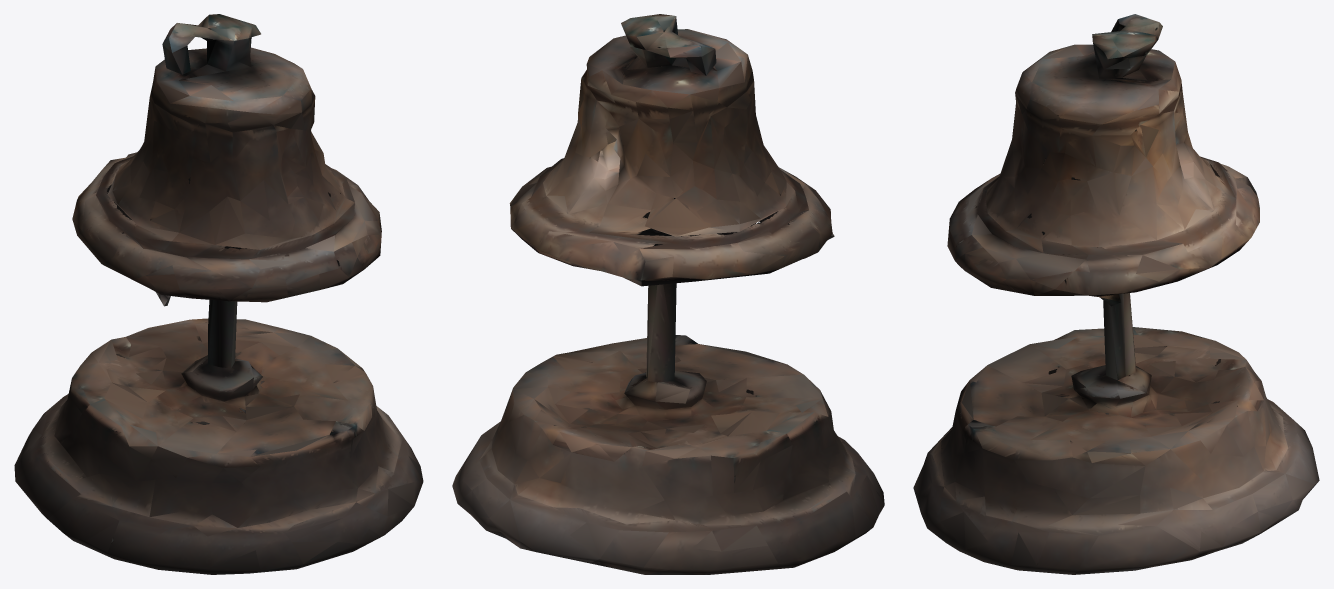
The model's file is 18_watchtower.fbx.
3 views of the same model, side by side, from view 1: azimuth 30°, elevation 25°; view 2: azimuth 150°, elevation 25°; view 3: azimuth 270°, elevation 25° (orthographic). The views are drawn at different scales.
Parts seen in each view (by area): view 1: 18_watchtower; view 2: 18_watchtower; view 3: 18_watchtower.
Boxes of the visible parts, x1,y1,x2,y2 form: 18_watchtower: [14, 14, 423, 574]; 18_watchtower: [452, 14, 884, 574]; 18_watchtower: [913, 14, 1319, 574].
Bounding box in the file's own units: 31.23 × 40 × 30.97.
Materials: 1 (1 with a texture image).
